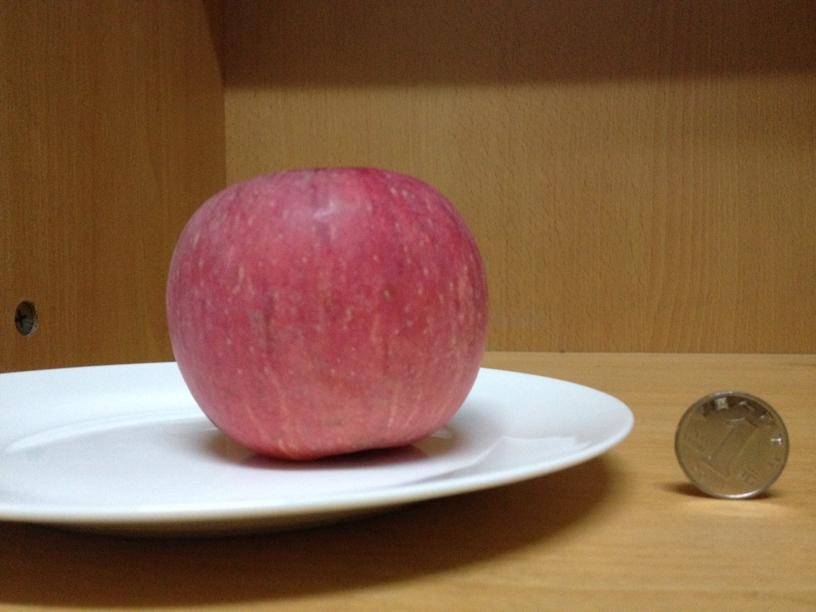apple: (162, 169, 487, 459)
coin: (672, 392, 789, 500)
